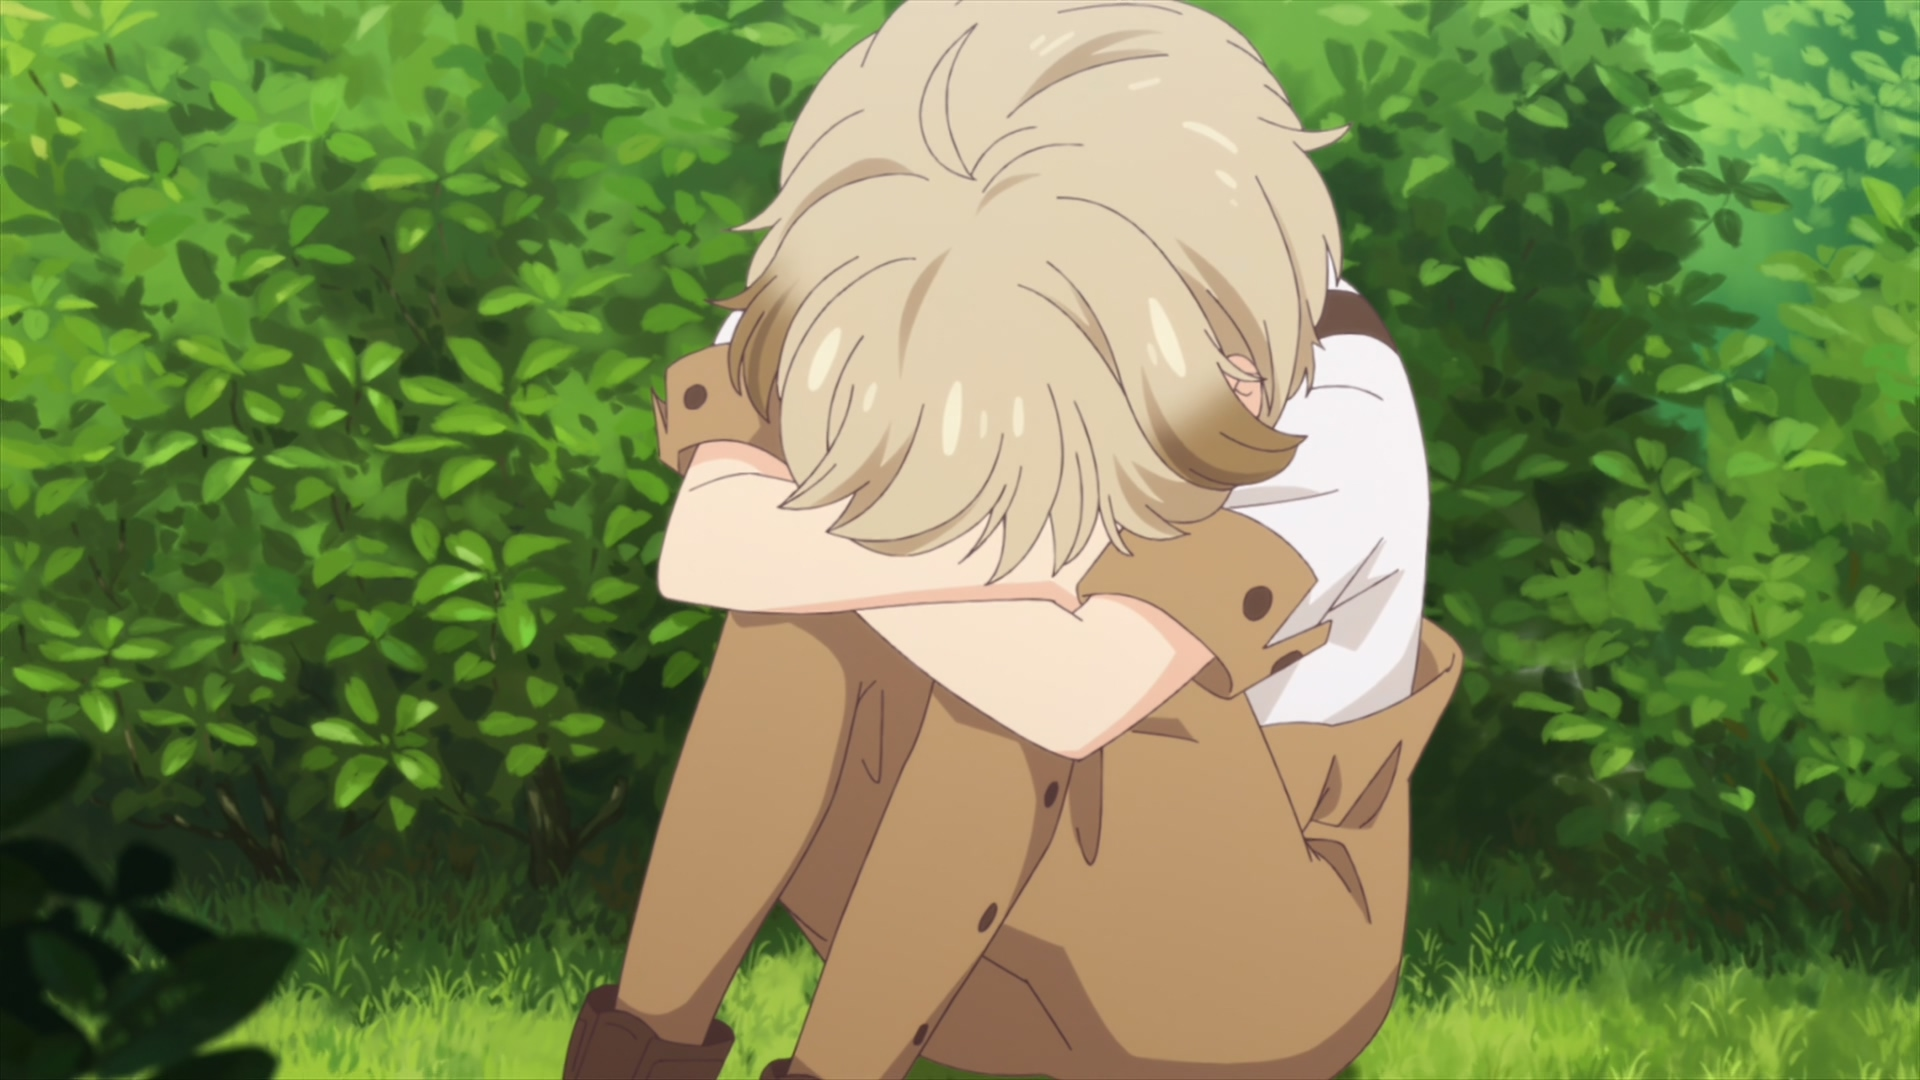其他: (564, 1, 1464, 1080)
